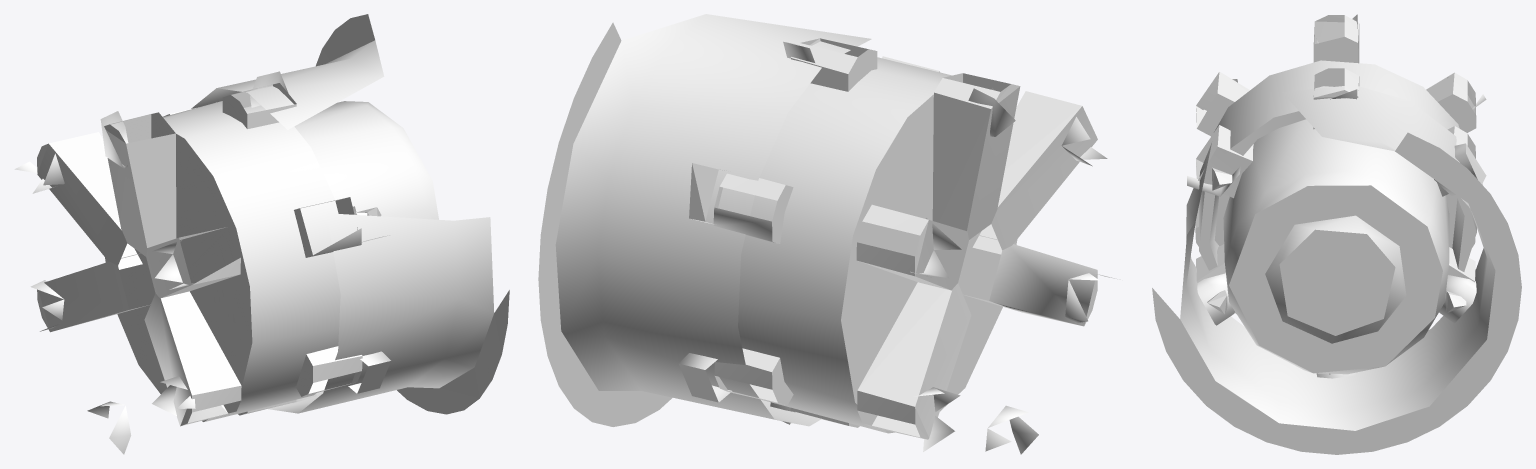
3 renders of one model, left to right at view 1: azimuth 30°, elevation 25°; view 2: azimuth 150°, elevation 25°; view 3: azimuth 270°, elevation 25°, orthographic. The views are drawn at different scales.
Size of the model in its own units: 0.6232 by 0.6815 by 0.7085.
Materials: 1 (1 with a texture image).
